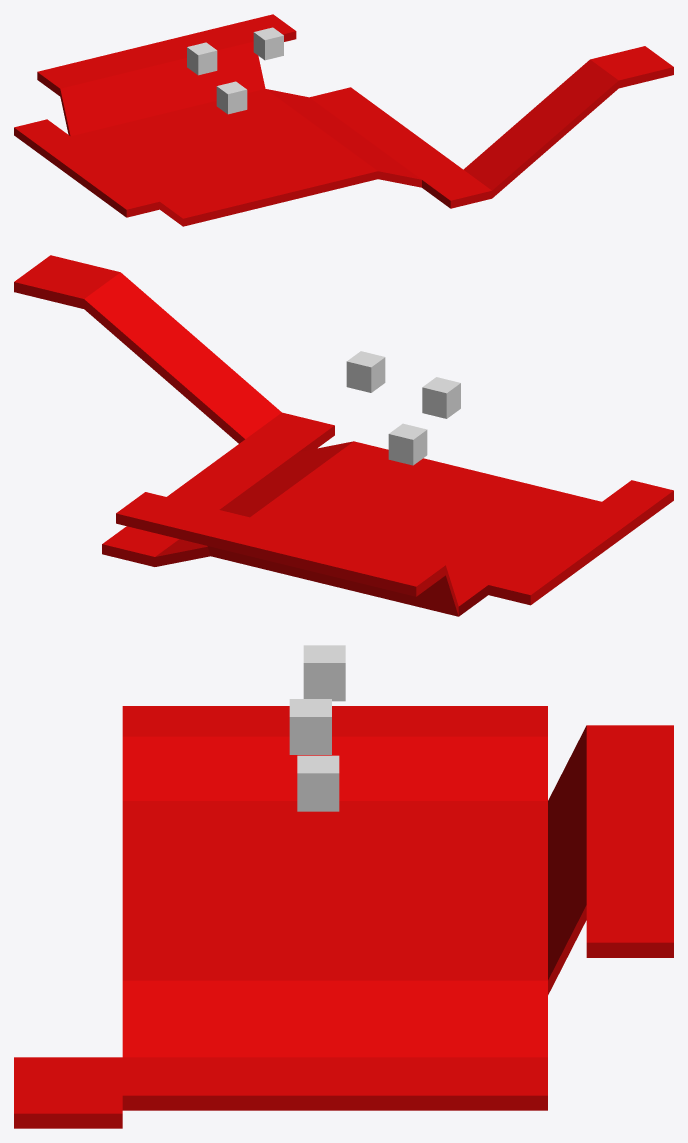
3 views of the same model, one above another, from view 1: azimuth 30°, elevation 25°; view 2: azimuth 150°, elevation 25°; view 3: azimuth 270°, elevation 25° (orthographic). The views are drawn at different scales.
Parts seen in each view (by area): view 1: Floor, Cube001, Cube002, Cube003; view 2: Floor, Cube001, Cube003, Cube002; view 3: Floor, Cube001, Cube003, Cube002.
Part boxes in pixels (x1=…): Floor: x1=14, y1=14, x2=673, y2=226; Cube001: x1=216, y1=81, x2=247, y2=114; Cube002: x1=187, y1=42, x2=217, y2=75; Cube003: x1=253, y1=27, x2=283, y2=60; Floor: x1=14, y1=255, x2=673, y2=616; Cube001: x1=388, y1=423, x2=427, y2=465; Cube003: x1=346, y1=351, x2=385, y2=392; Cube002: x1=422, y1=377, x2=460, y2=418; Floor: x1=14, y1=706, x2=673, y2=1128; Cube001: x1=297, y1=755, x2=339, y2=811; Cube003: x1=289, y1=699, x2=331, y2=754; Cube002: x1=303, y1=645, x2=345, y2=701.
Size of the model in its own units: 53.74 by 14.12 by 31.35.
